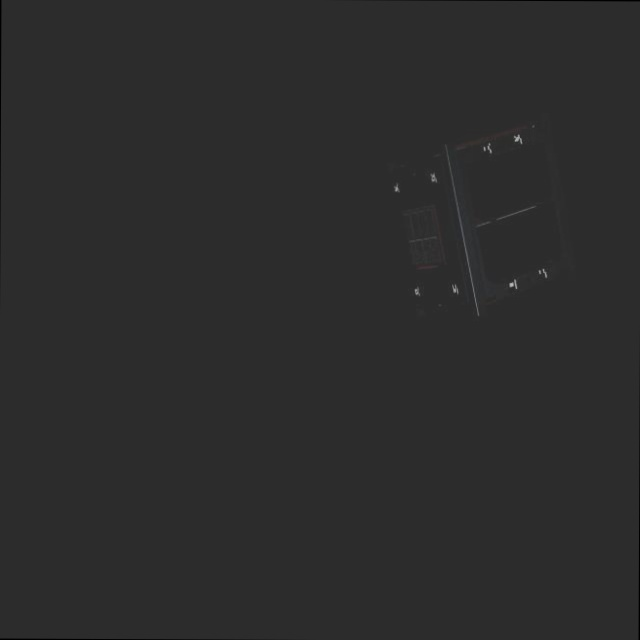satellite: (393, 112, 578, 322)
